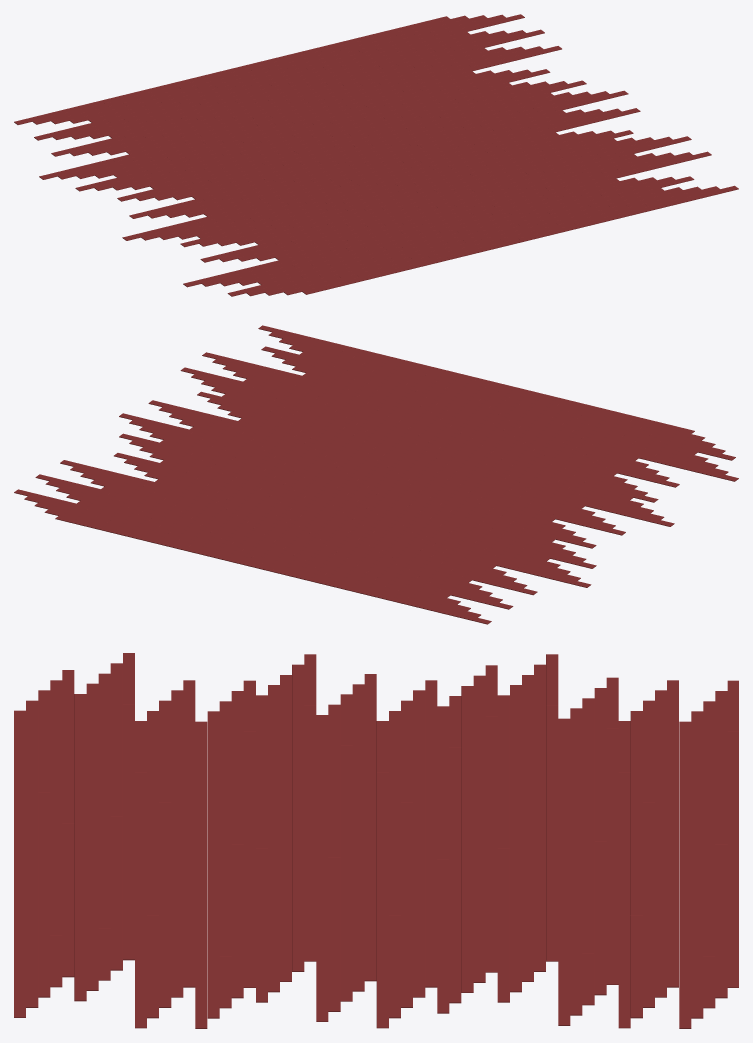
File: floor fbx.FBX
3 views of the same model, one above another, from view 1: azimuth 30°, elevation 25°; view 2: azimuth 150°, elevation 25°; view 3: azimuth 270°, elevation 25° (orthographic). The views are drawn at different scales.
Visible parts, largest first — view 1: 1900_190_Postlebury; view 2: 1900_190_Postlebury; view 3: 1900_190_Postlebury.
Part boxes in pixels (bbox=[...]): 1900_190_Postlebury: bbox=[14, 14, 738, 296]; 1900_190_Postlebury: bbox=[14, 325, 738, 624]; 1900_190_Postlebury: bbox=[14, 653, 738, 1028].
Size of the model in its own units: 13951 by 15.5 by 11402.
